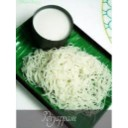idiyappam: (28, 50, 110, 112)
